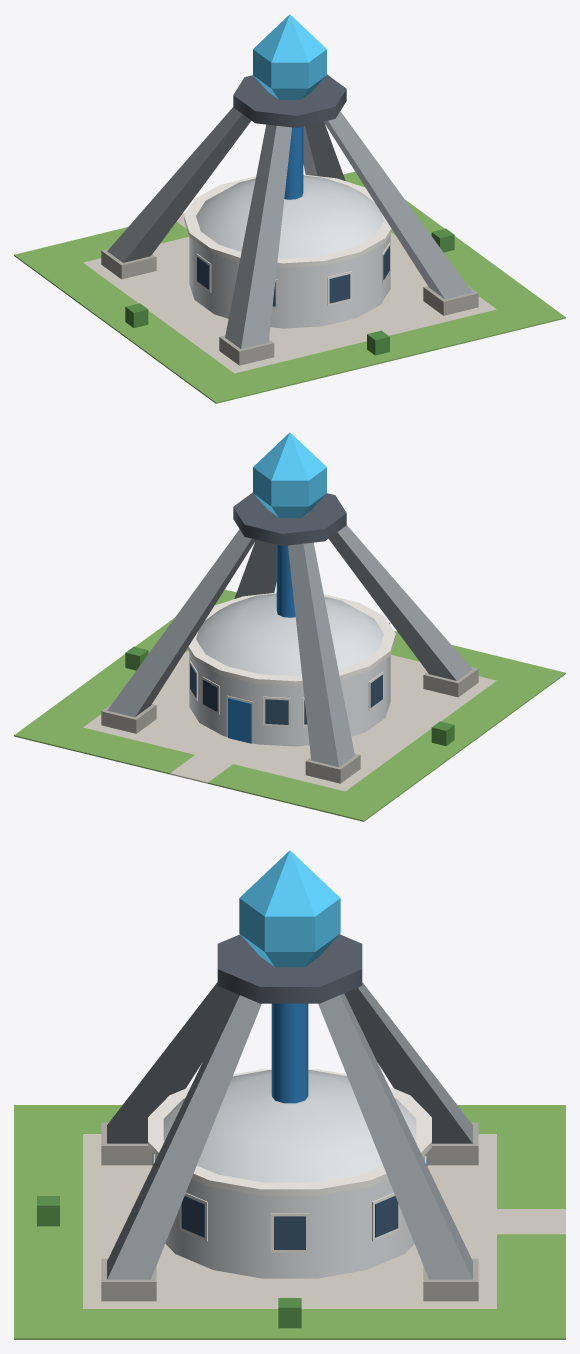
The model's file is shieldgen.glb.
3 views of the same model, one above another, from view 1: azimuth 30°, elevation 25°; view 2: azimuth 150°, elevation 25°; view 3: azimuth 270°, elevation 25° (orthographic). The views are drawn at different scales.
Parts seen in each view (by area): view 1: pylon (×4), lawn, plaza, roof, power_building, shield_emitter, emitter_crown, roof_rim, pylon_footing (×3), power_conduit, tree_spot (×2), window_glass; view 2: pylon (×4), lawn, plaza, roof, power_building, shield_emitter, emitter_crown, roof_rim, pylon_footing (×3), power_conduit, door, window_glass (+1 smaller); view 3: lawn, pylon (×4), plaza, roof, power_building, shield_emitter, emitter_crown, pylon_footing (×4), roof_rim, power_conduit, window_glass (×3), tree_spot (×2).
Boxes of the visible parts, <box> form: pylon (×4): <box>107,107,472,348</box>; lawn: <box>14,171,565,403</box>; plaza: <box>83,213,496,373</box>; roof: <box>196,175,383,258</box>; power_building: <box>189,235,390,328</box>; shield_emitter: <box>253,14,326,99</box>; emitter_crown: <box>233,74,346,127</box>; roof_rim: <box>184,174,392,267</box>; pylon_footing (×3): <box>101,249,478,365</box>; power_conduit: <box>284,127,303,199</box>; tree_spot (×2): <box>125,303,389,355</box>; window_glass: <box>329,274,350,303</box>; pylon (×4): <box>107,525,472,766</box>; lawn: <box>14,589,565,821</box>; plaza: <box>83,650,496,791</box>; roof: <box>196,593,383,676</box>; power_building: <box>189,653,390,746</box>; shield_emitter: <box>253,432,326,517</box>; emitter_crown: <box>233,492,346,545</box>; roof_rim: <box>187,592,395,685</box>; pylon_footing (×3): <box>101,667,478,783</box>; power_conduit: <box>276,545,295,617</box>; door: <box>228,698,251,743</box>; window_glass: <box>265,699,288,724</box>; lawn: <box>14,1105,565,1339</box>; pylon (×4): <box>107,982,472,1279</box>; plaza: <box>83,1134,565,1308</box>; roof: <box>163,1070,416,1182</box>; power_building: <box>154,1155,425,1278</box>; shield_emitter: <box>239,850,340,967</box>; emitter_crown: <box>217,934,362,1003</box>; pylon_footing (×4): <box>101,1122,478,1301</box>; roof_rim: <box>148,1069,431,1195</box>; power_conduit: <box>271,1003,308,1103</box>; window_glass (×3): <box>181,1196,398,1249</box>; tree_spot (×2): <box>37,1196,301,1328</box>.
Size of the model in its own units: 24 by 17.9 by 24.
